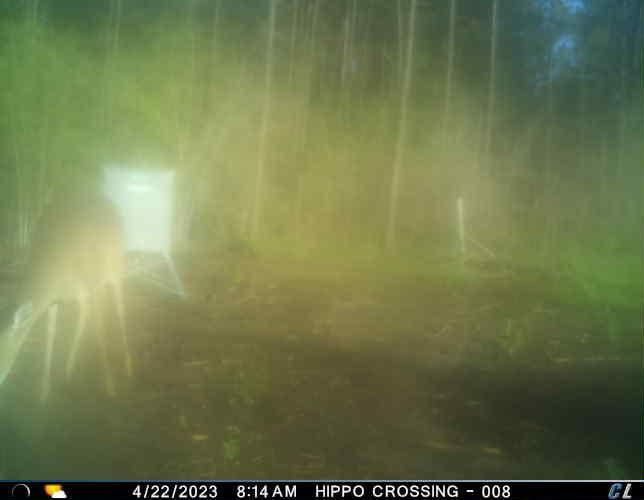Deer: (0, 179, 136, 409)
